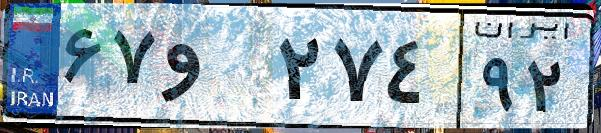2: (270, 28, 330, 110), (525, 38, 570, 115)
4: (385, 28, 445, 110)
6: (57, 26, 110, 100)
7: (330, 28, 385, 110), (110, 28, 158, 98)
9: (475, 38, 525, 113)
و: (158, 20, 270, 120)
